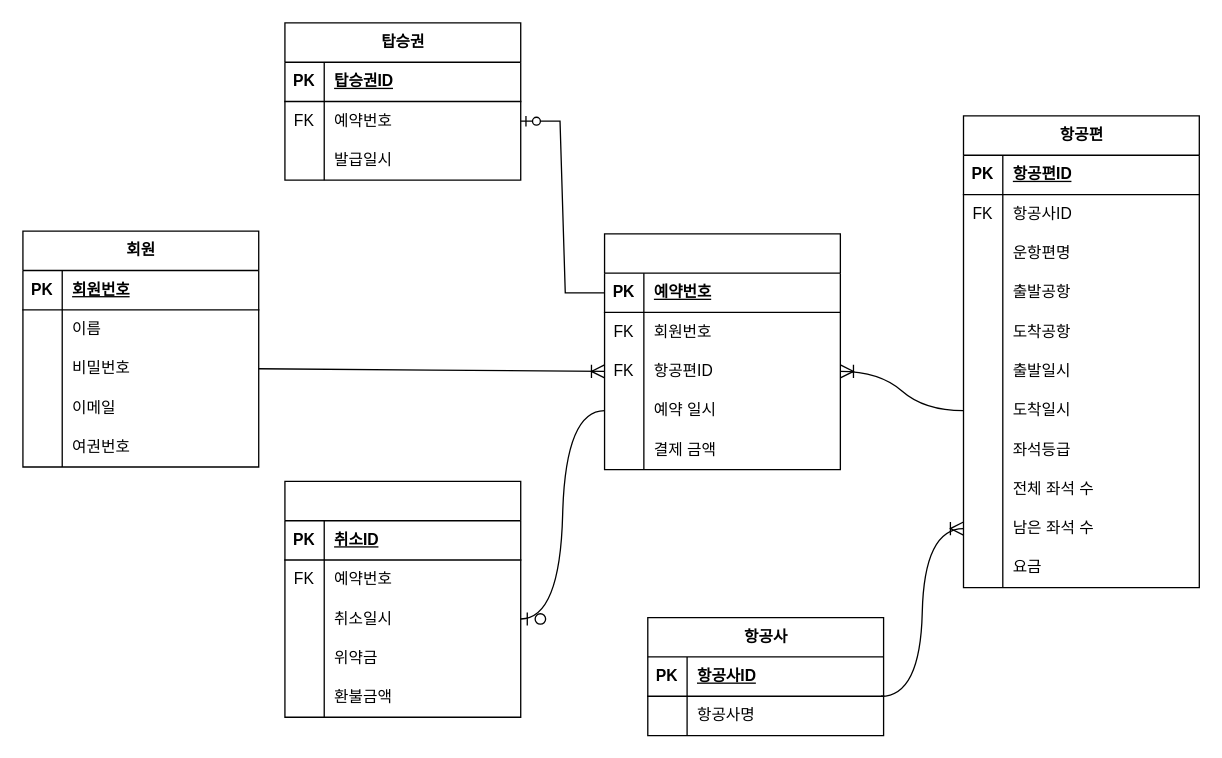
Image size: 1222x758. Some labels were removed from this diagram. Here are the shapes that lost their labels. From the top down, the box of each, then its label:
(603, 233, 840, 470): 예약
(284, 480, 521, 717): 취소
